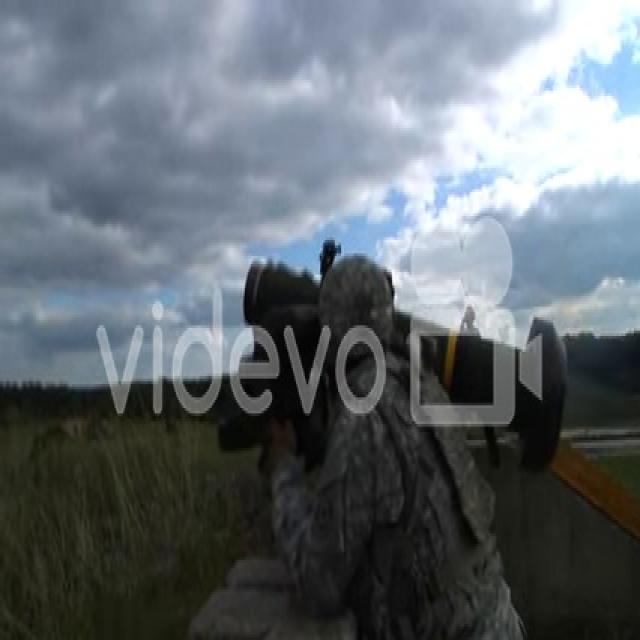bazooka: (237, 250, 574, 473)
